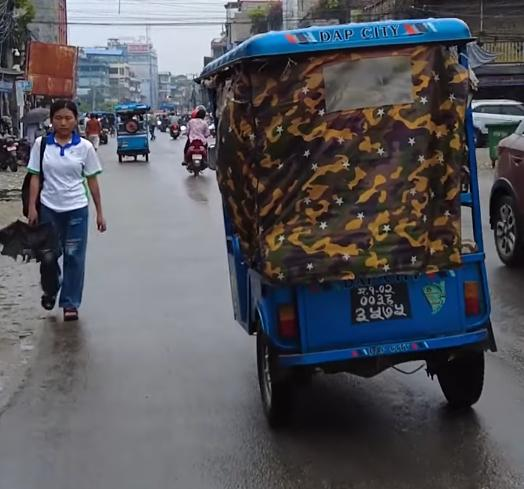e-rickshaw: (191, 10, 500, 420), (114, 104, 154, 166)
